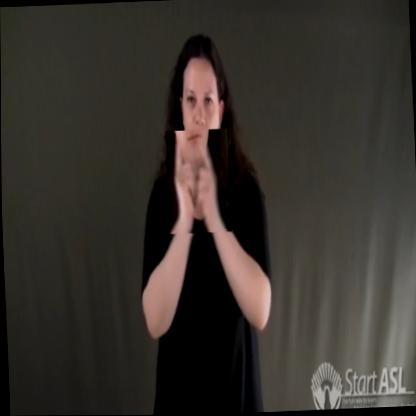NiceToMeetYou: (165, 129, 232, 235)
